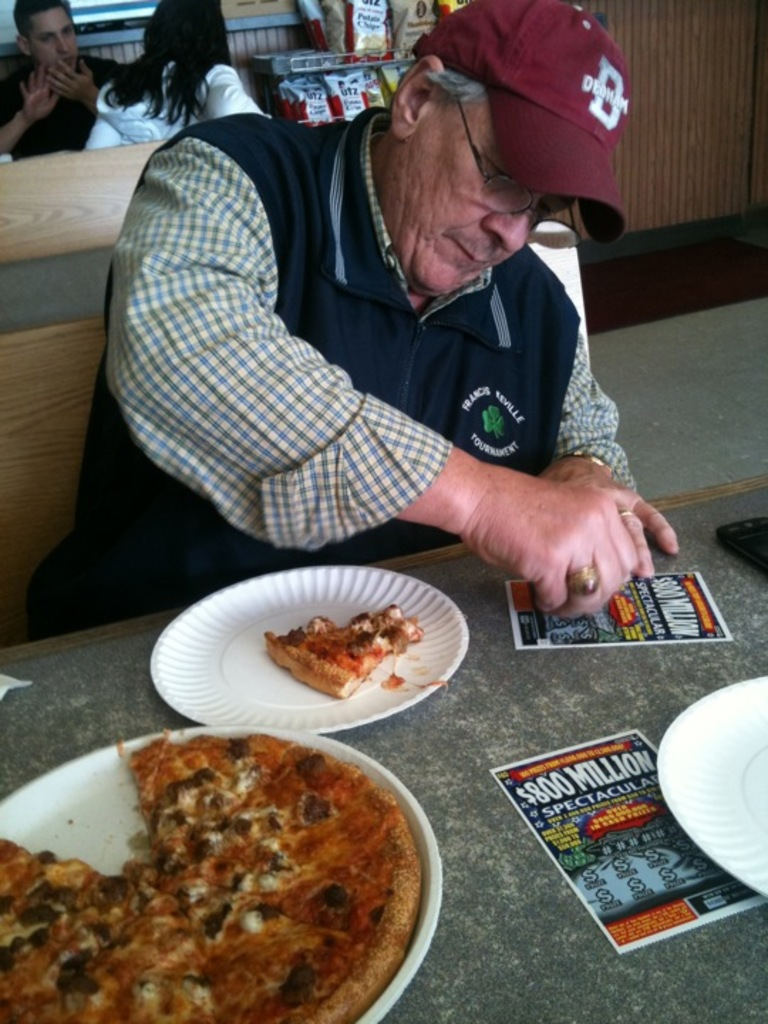Pizza: (25, 728, 436, 1024), (241, 605, 416, 709)
